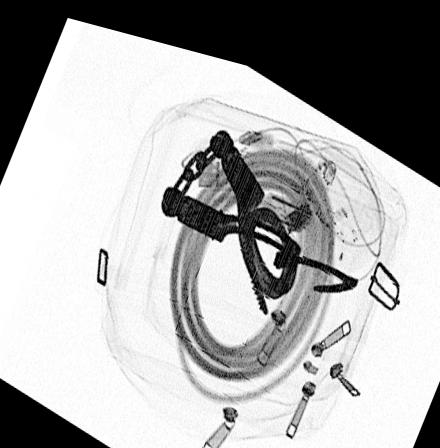HandCuffs: (156, 113, 306, 301)
